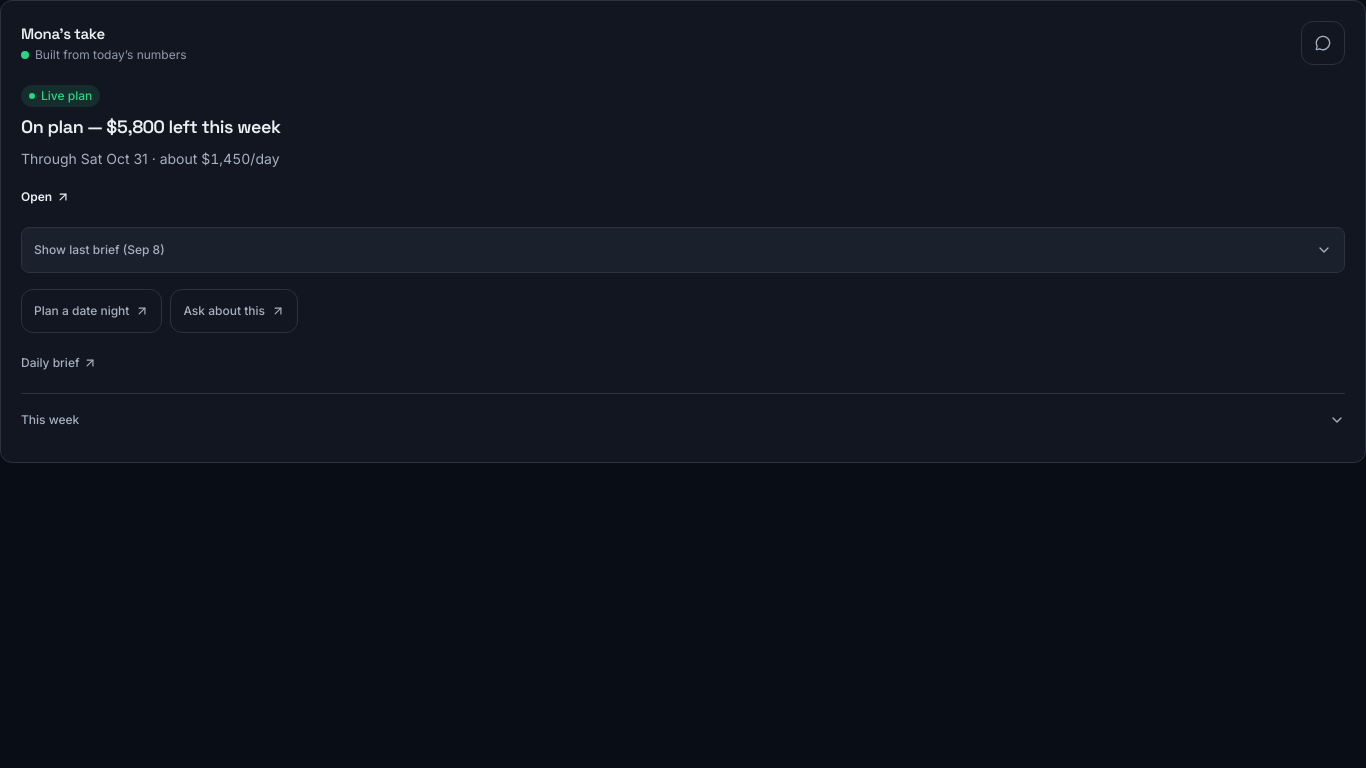
Test: Mona's take › replaces an old brief with the live plan and keeps it behind a toggle
Check: the text "Live plan" is shown, box [21,85,100,107]
Check: the text "Keep groceries inside the monthly plan" is not shown
Click the button "Show last brief (Sep 8)". click: click(99, 249)
box: [22,228,1344,272]
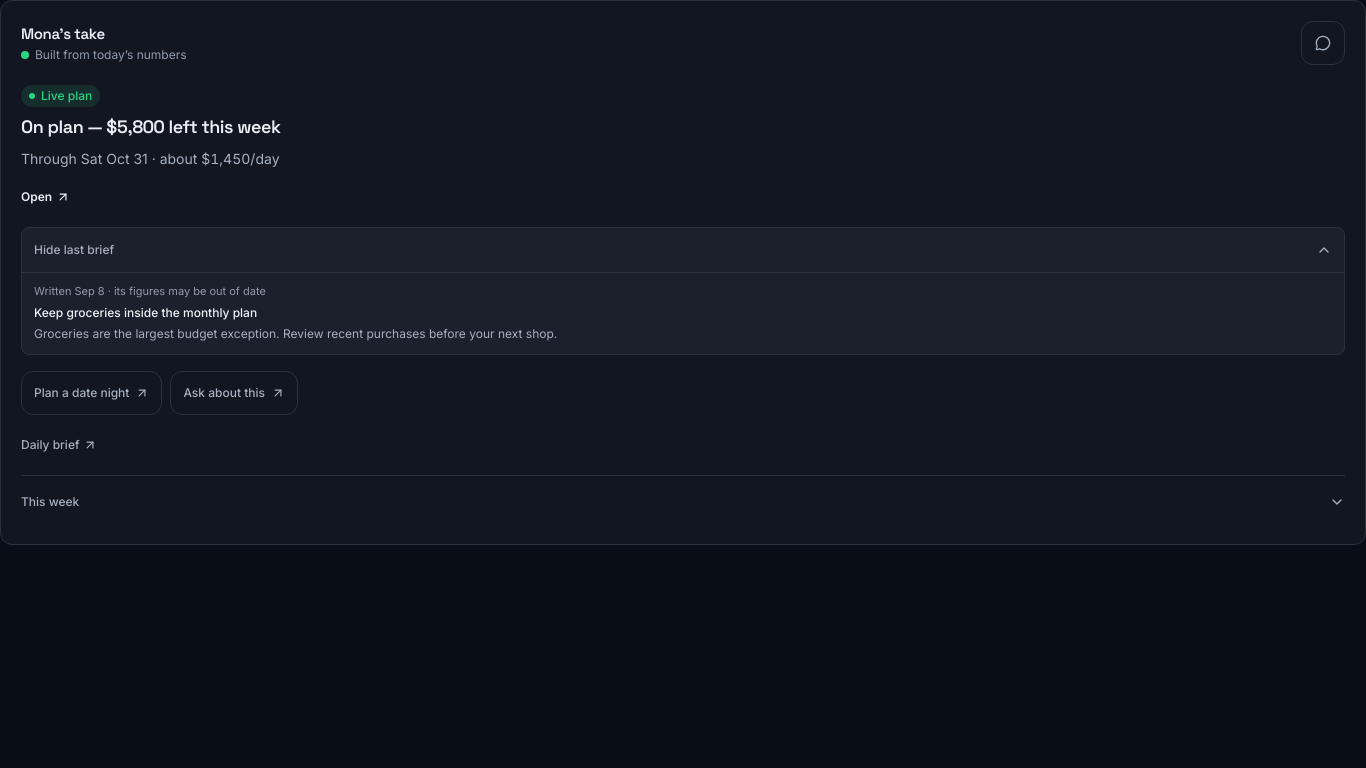
Check: the text "Keep groceries inside the monthly plan" is shown, box [34,304,257,320]
